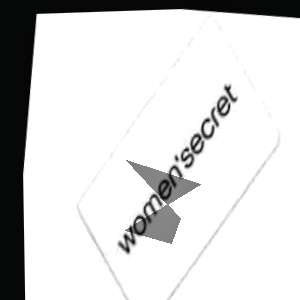women_secret: (126, 53, 300, 125)
